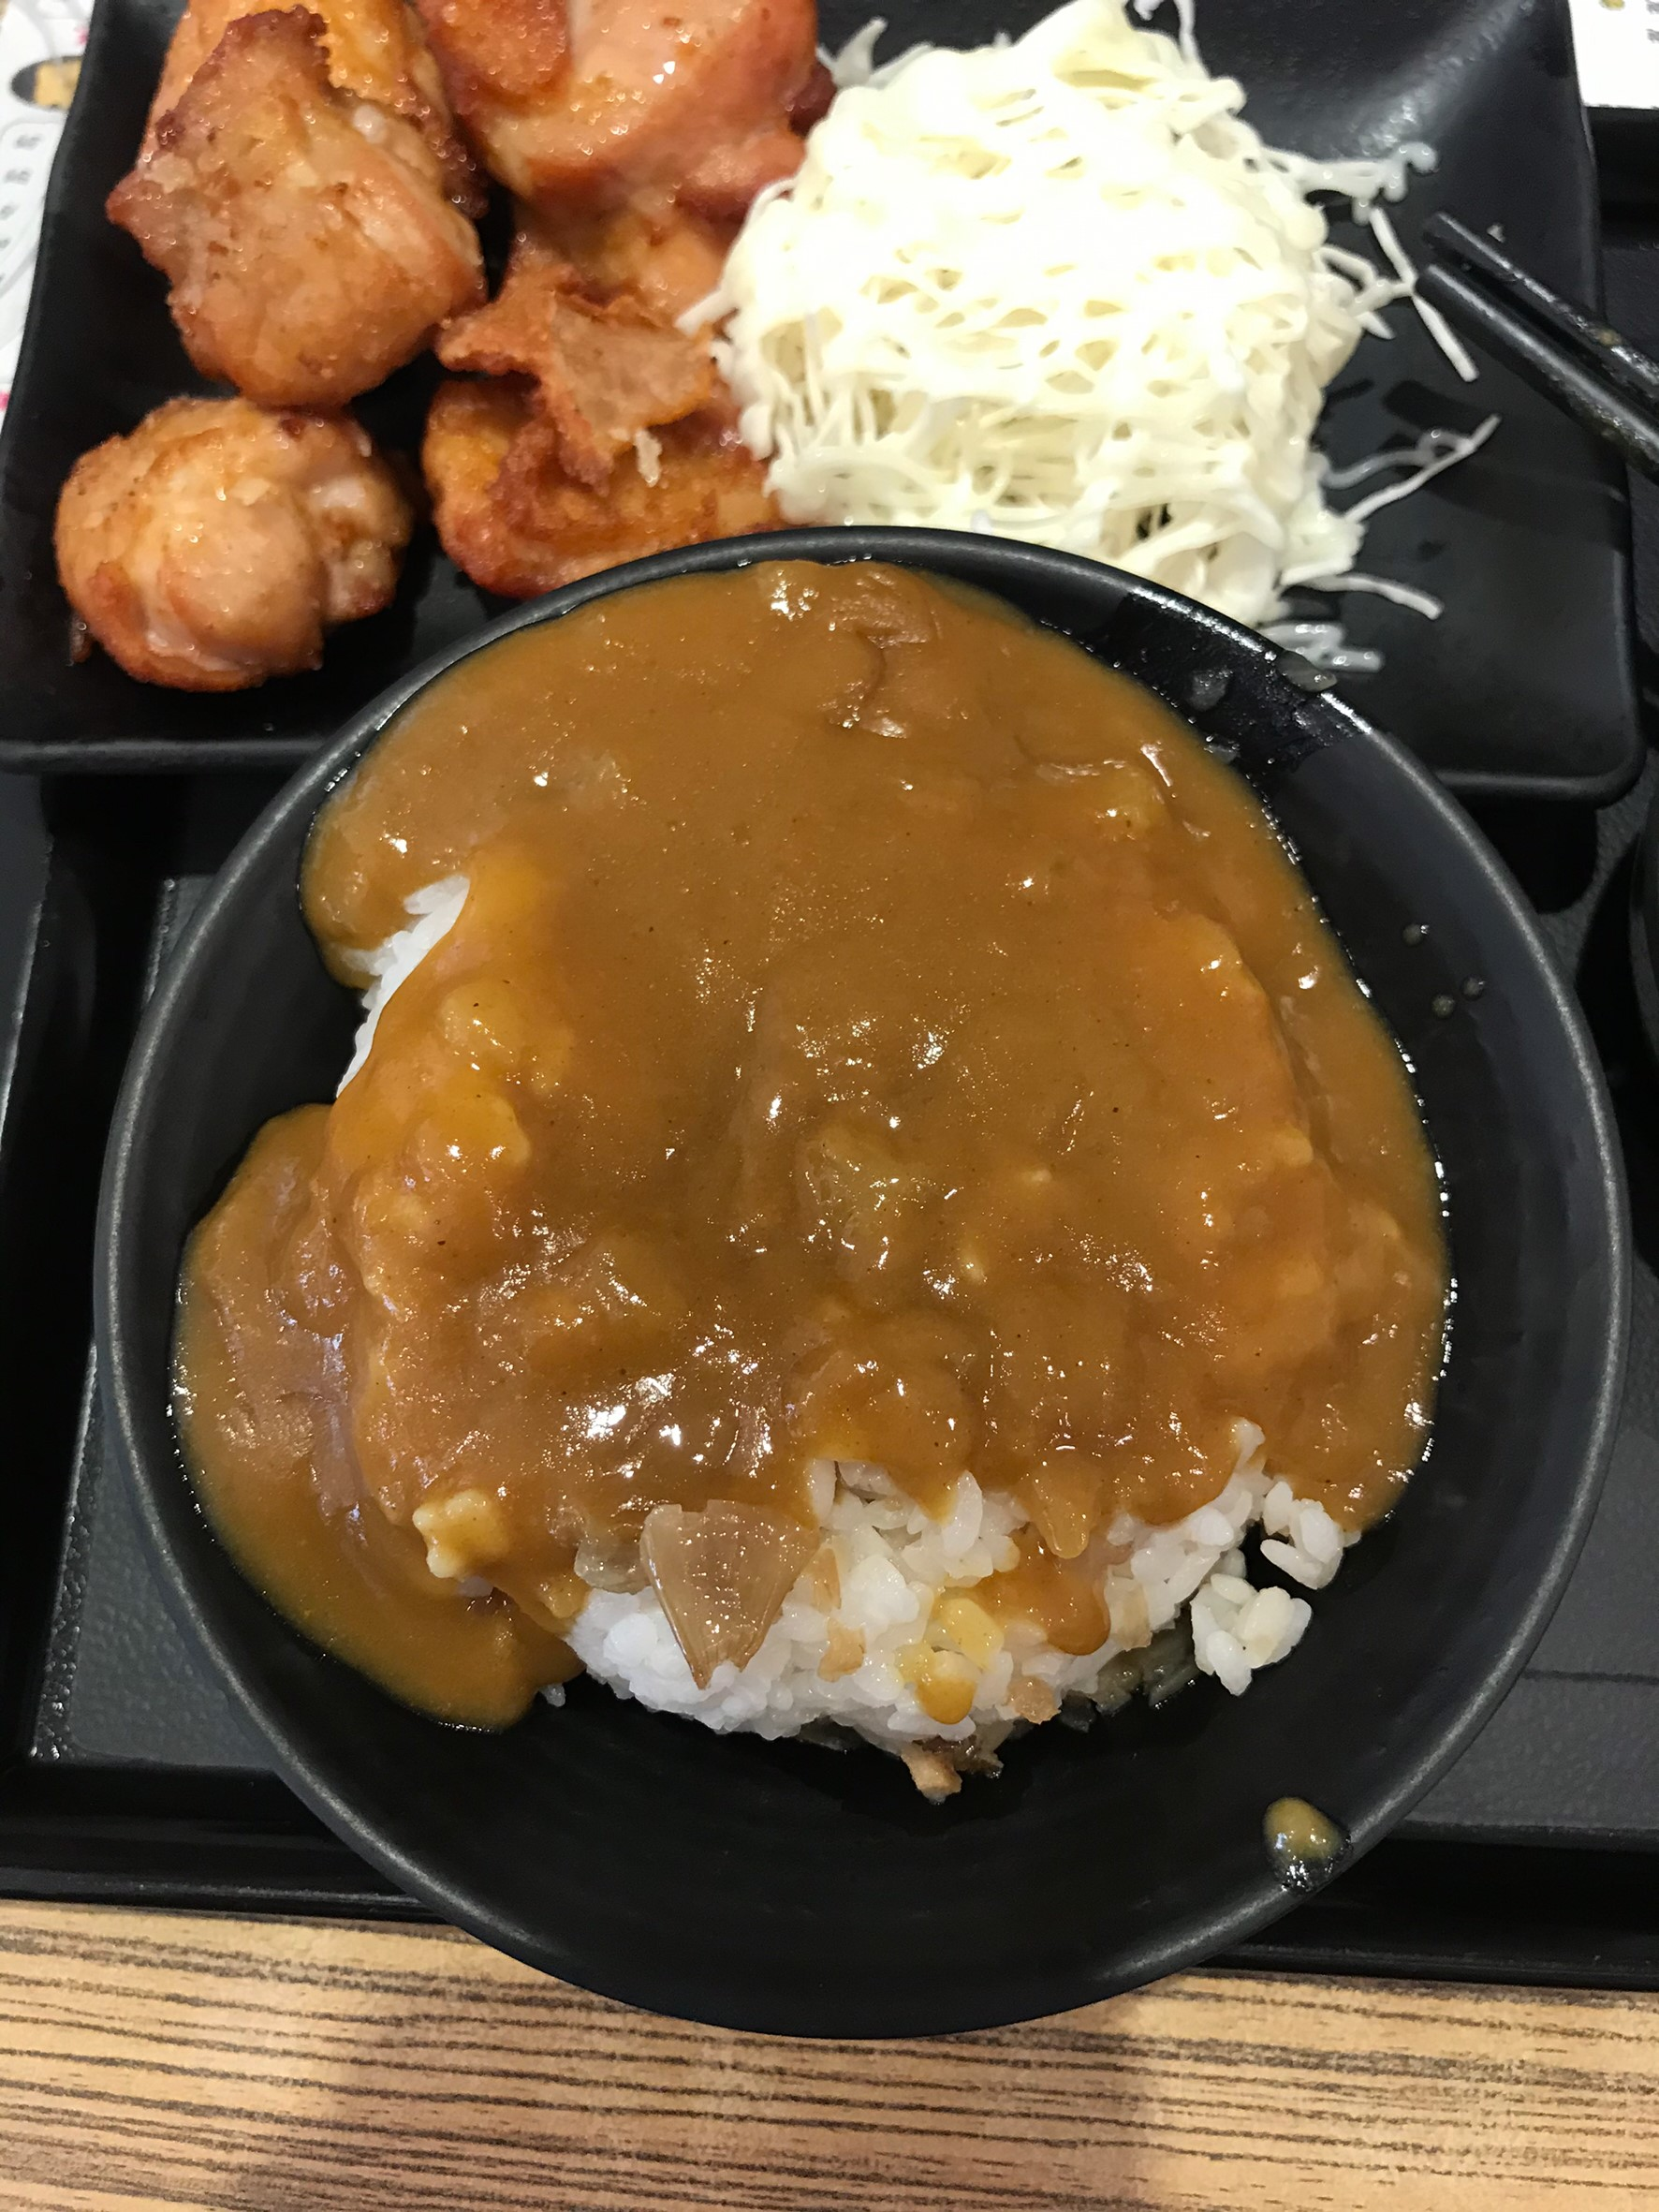curry: (164, 553, 1455, 1764)
